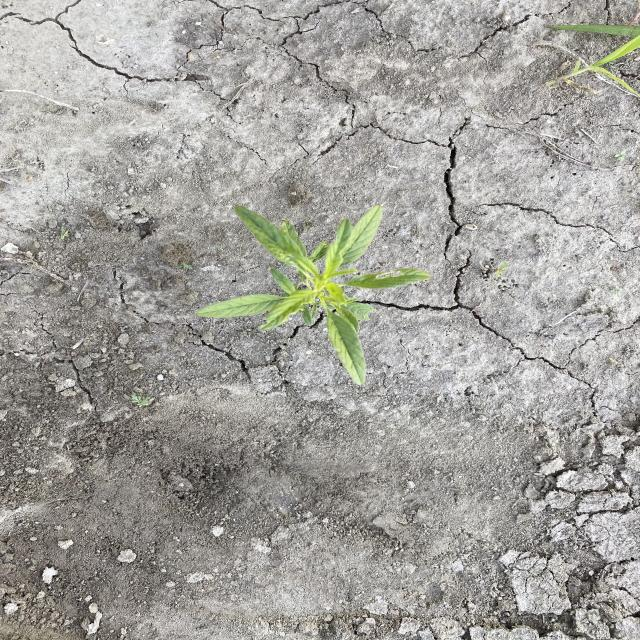Waterhemp: (194, 200, 434, 387)
